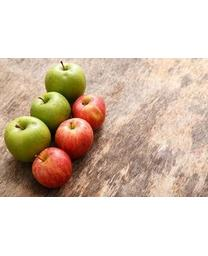apple: (5, 117, 51, 162), (30, 91, 71, 133), (43, 60, 85, 100), (32, 149, 73, 189), (55, 118, 94, 158), (71, 94, 105, 129)
